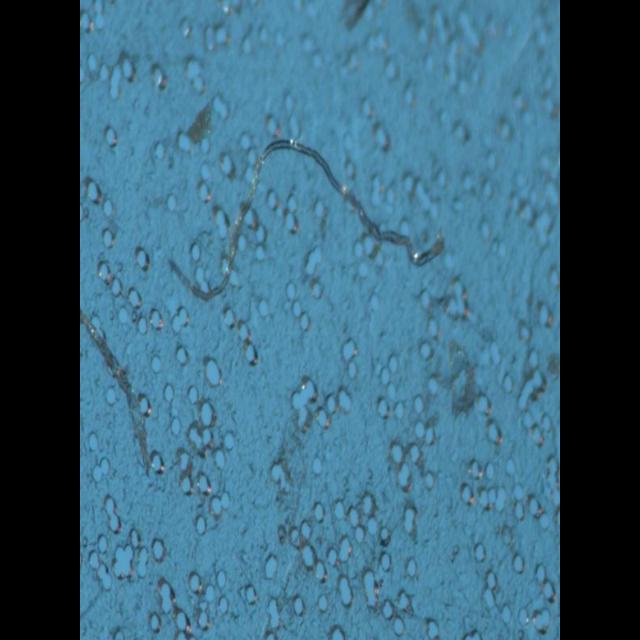Fibre: (167, 134, 446, 304)
